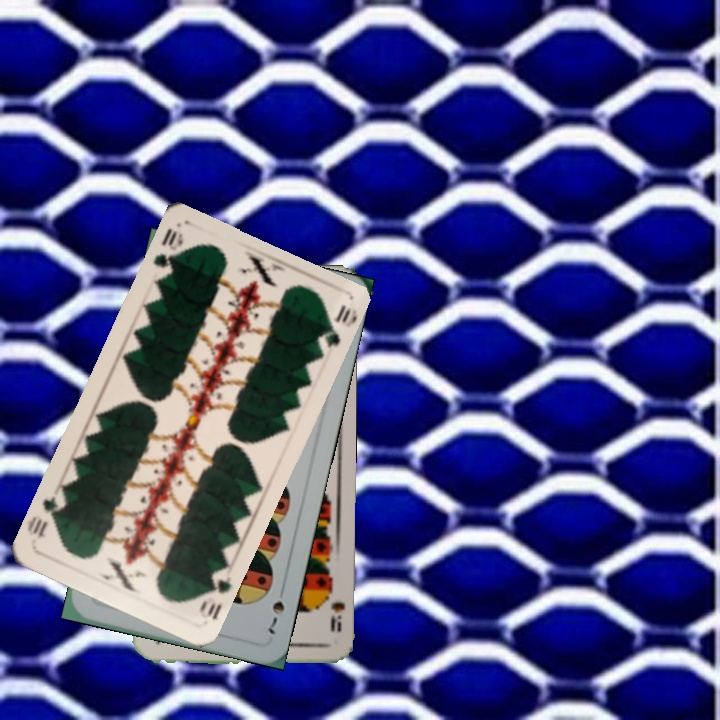G10: (195, 565, 234, 622), (149, 224, 186, 271)
S7: (264, 582, 288, 638)
S9: (320, 580, 347, 634)
